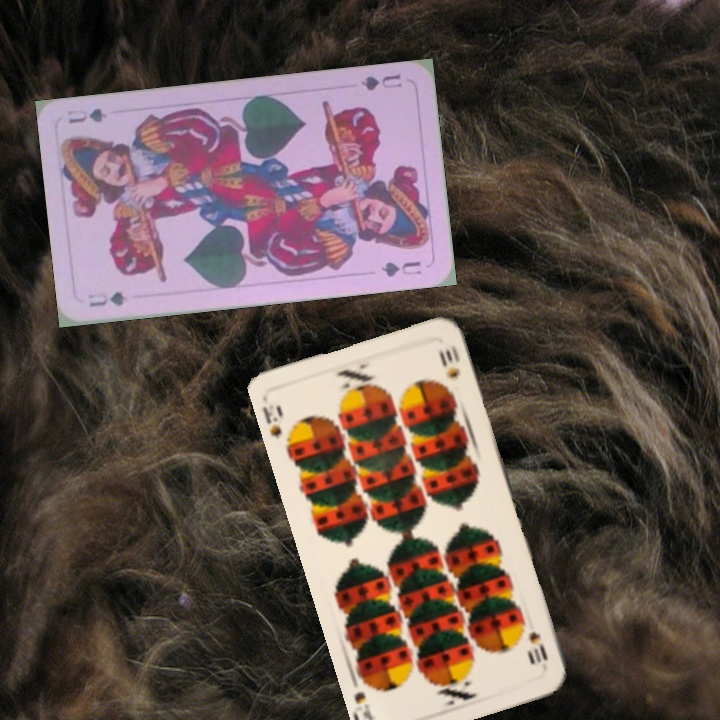GU: (357, 70, 404, 94), (84, 287, 130, 310)
S10: (258, 393, 284, 441), (525, 627, 551, 666)
